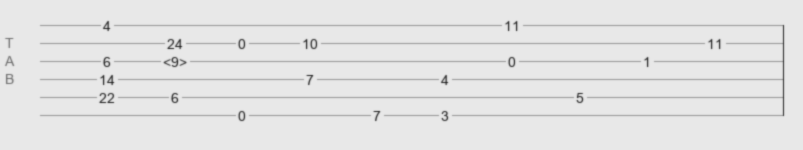0: (238, 36, 246, 46), (238, 108, 246, 118), (508, 54, 516, 64)
1: (643, 54, 651, 64)
10: (302, 36, 318, 46)
11: (504, 18, 520, 28), (707, 36, 723, 46)
14: (99, 72, 115, 82)
22: (99, 90, 115, 100)
24: (167, 36, 183, 46)
3: (441, 108, 449, 118)
4: (103, 18, 111, 28), (441, 72, 449, 82)
5: (576, 90, 584, 100)
6: (103, 54, 111, 64), (171, 90, 179, 100)
7: (306, 72, 314, 82), (373, 108, 381, 118)
harmonic: (163, 54, 187, 64)
